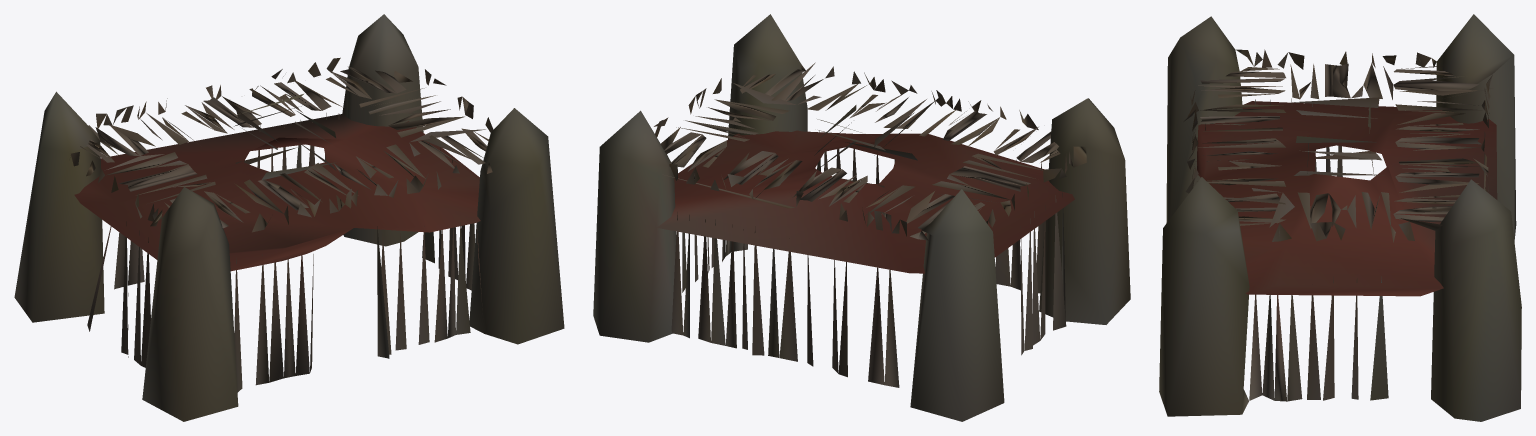
Rendered from monumento_e_lejos.glb.
The picture shows the model from 3 angles, left to right: view 1: azimuth 30°, elevation 25°; view 2: azimuth 150°, elevation 25°; view 3: azimuth 270°, elevation 25°; orthographic projection. The views are drawn at different scales.
Visible parts, largest first — view 1: monumento_e_lejos; view 2: monumento_e_lejos; view 3: monumento_e_lejos.
Part boxes in pixels (<box>): monumento_e_lejos: <box>14,14,564,421</box>; monumento_e_lejos: <box>593,14,1130,421</box>; monumento_e_lejos: <box>1159,14,1521,421</box>.
Size of the model in its own units: 21.11 by 10.87 by 15.98.
